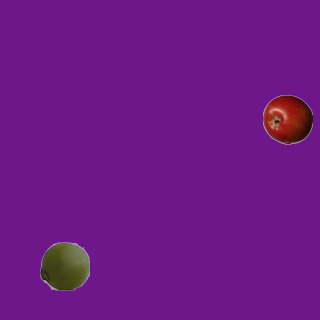Apple Braeburn: (262, 94, 312, 144)
Grape White 4: (39, 240, 89, 290)
